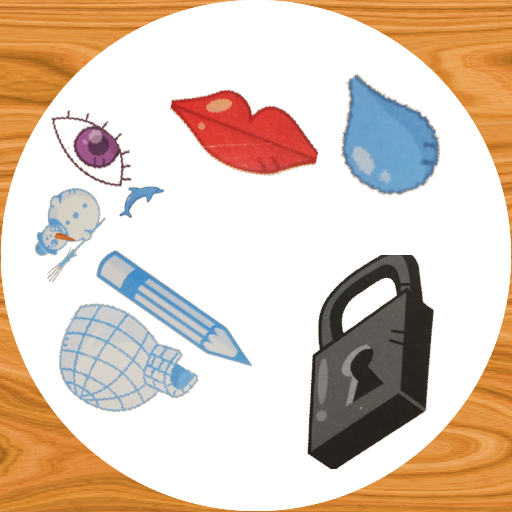dolphin_icon: (115, 174, 165, 224)
eye_icon: (42, 99, 141, 198)
igloo_icon: (56, 287, 204, 435)
lips_icon: (165, 64, 319, 218)
lock_icon: (257, 255, 471, 469)
pen_icon: (95, 233, 252, 390)
raindrop_icon: (320, 69, 451, 200)
snowman_icon: (21, 188, 116, 283)
